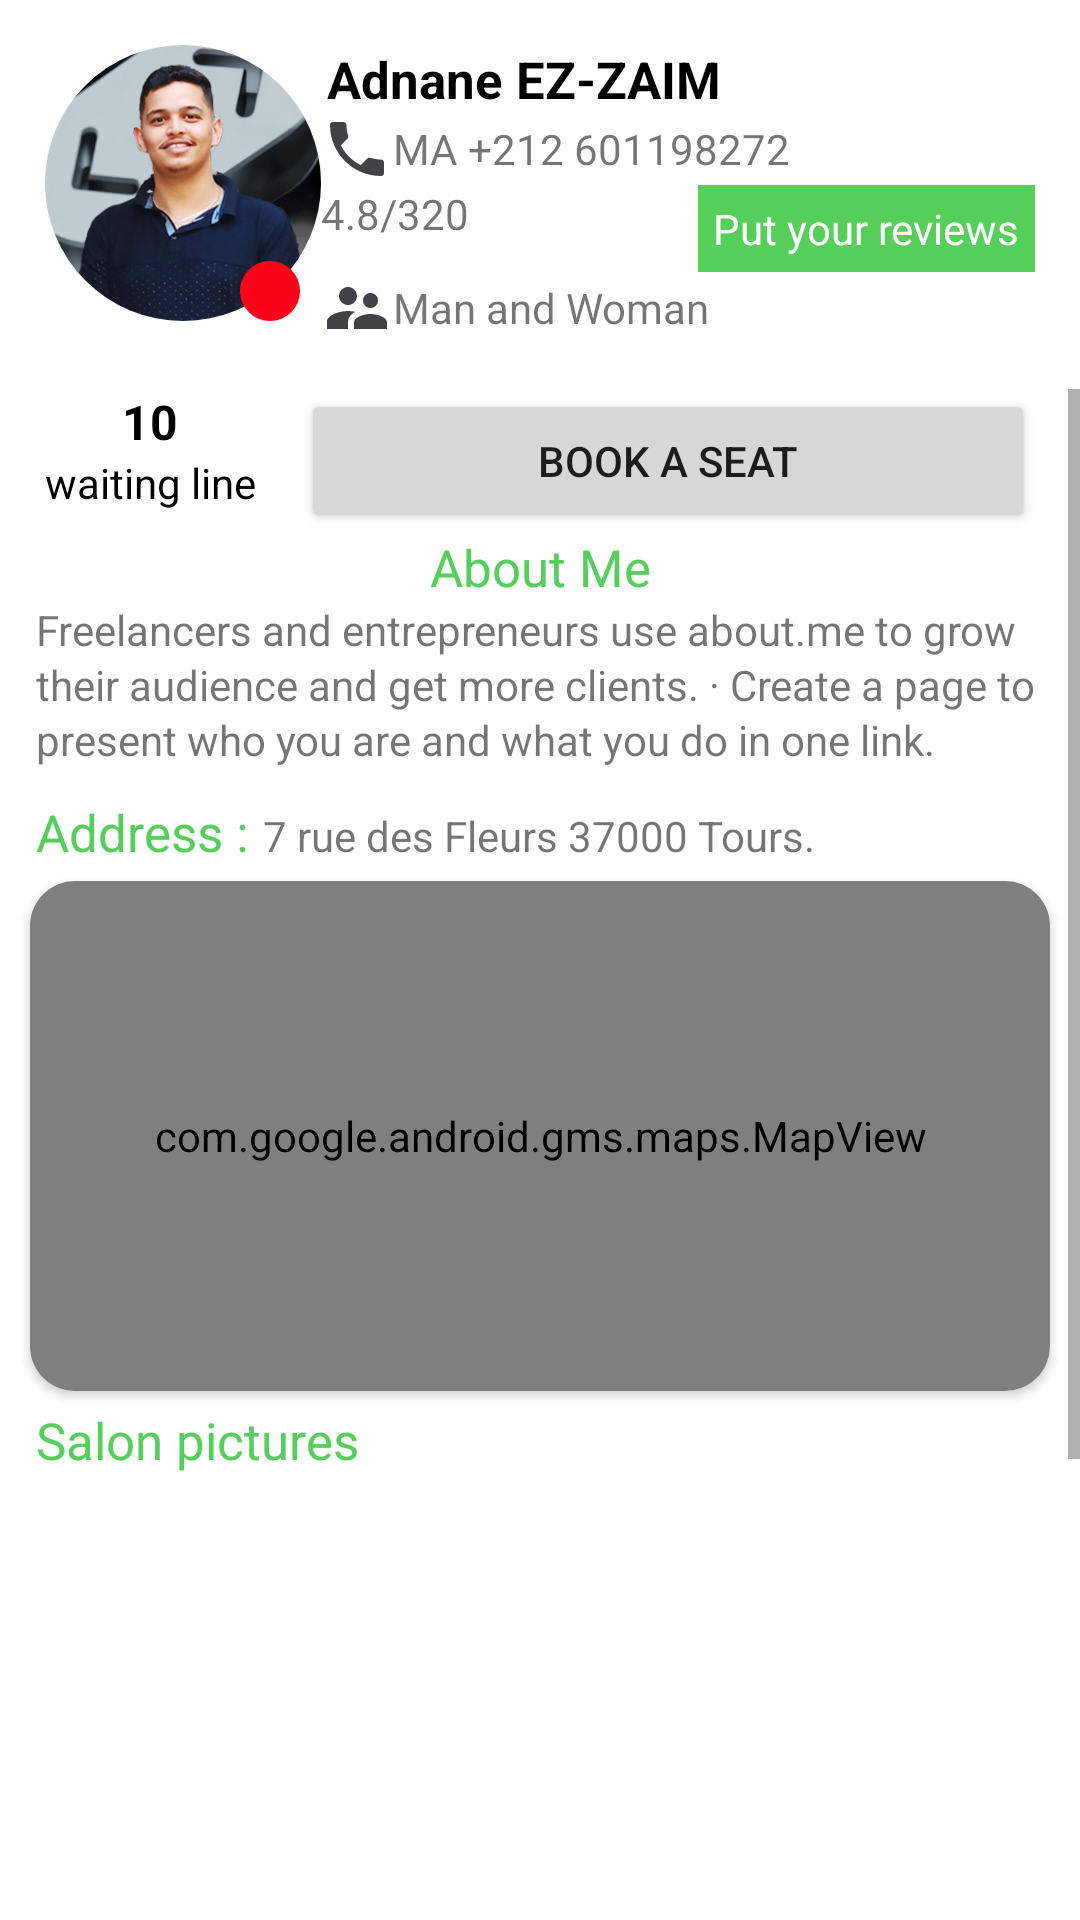

Where to tap for icons on this 1080 x 1920 app screen, as point (x, y):
pepple type: point (357, 308)
phone: point (357, 149)
